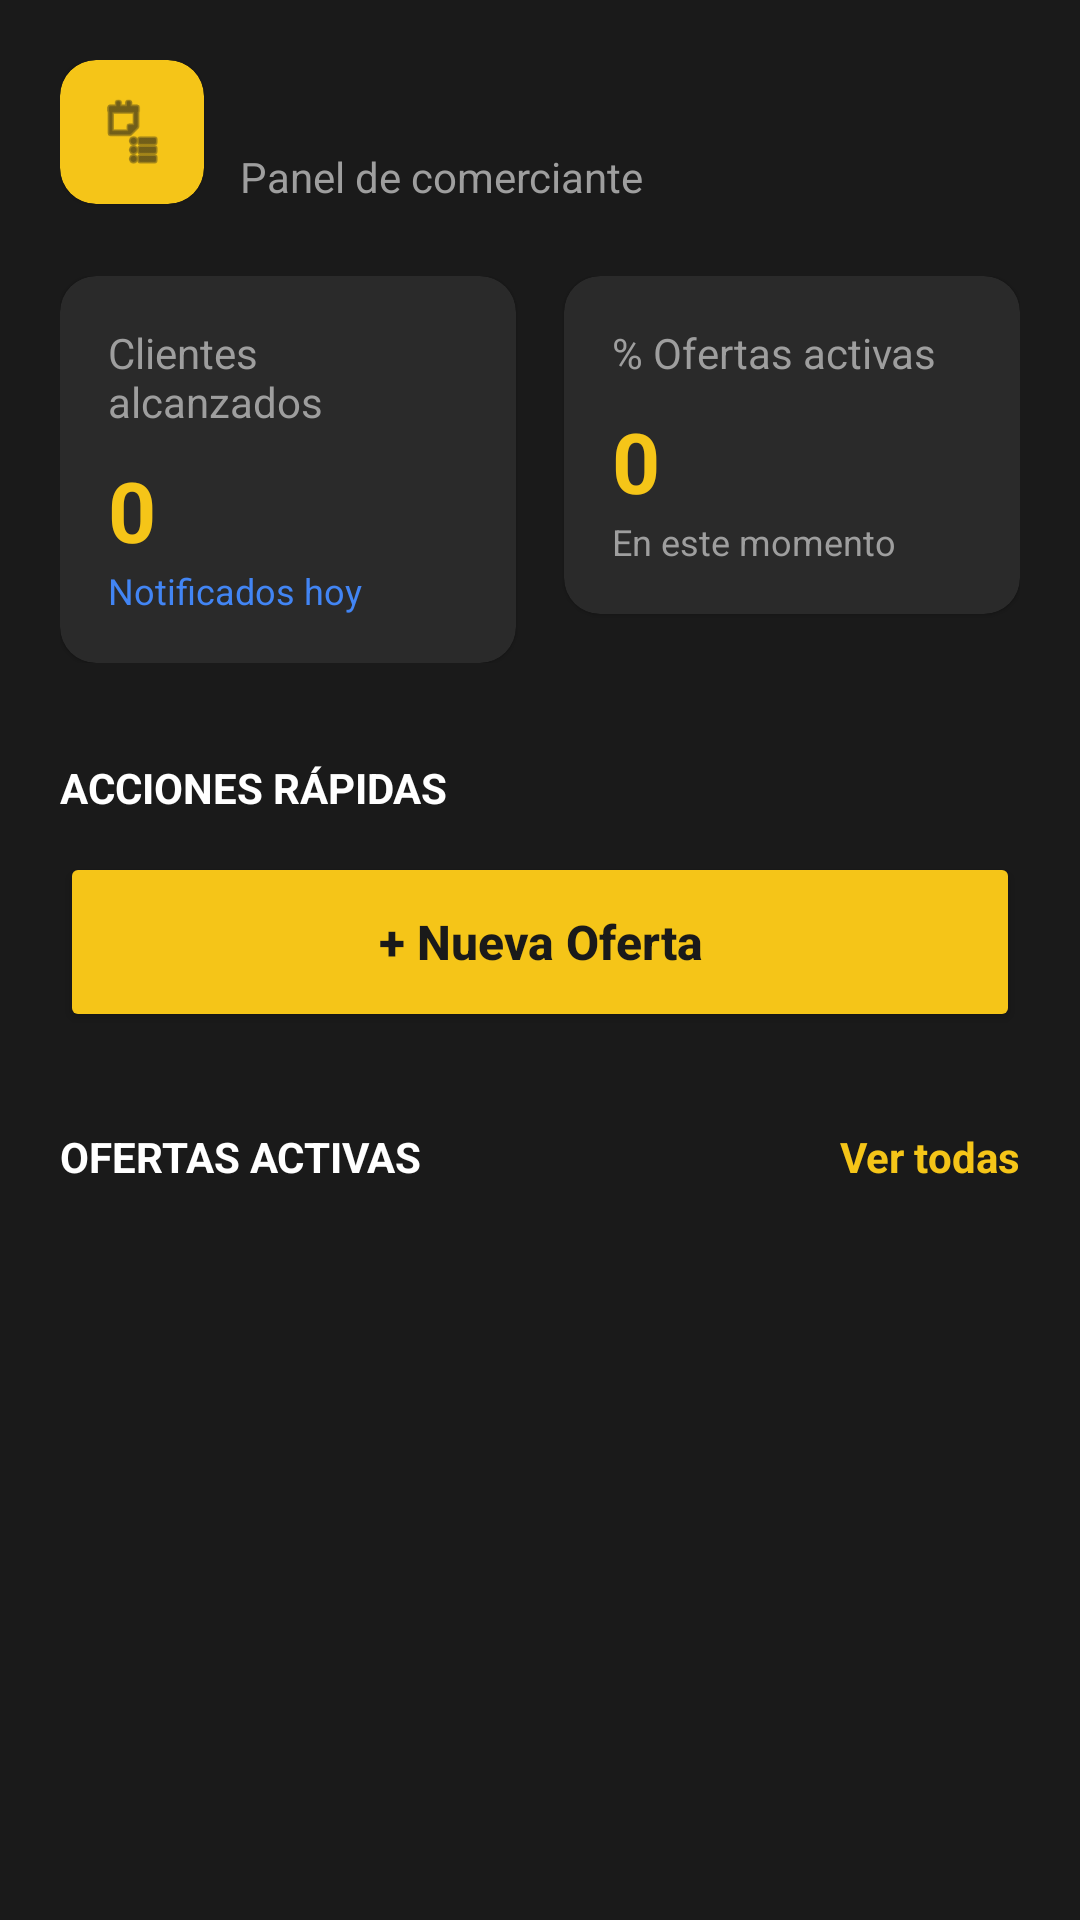

Named icons in this screenshot (1080 × 1920) and their centers, (x=x, y=y):
agenda: (x=132, y=132)
